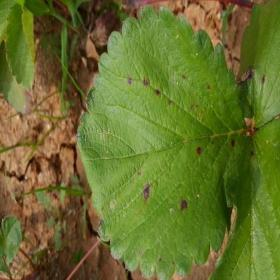Leaf Spot: (75, 4, 253, 279), (208, 119, 279, 279), (235, 0, 279, 128)
